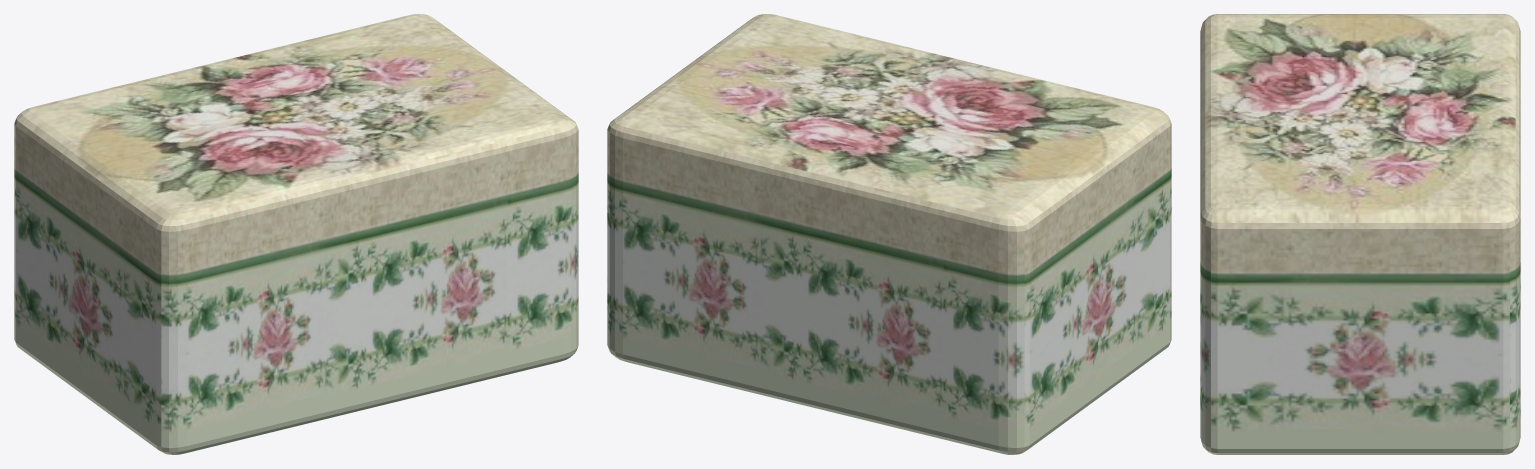
The picture shows the model from 3 angles, left to right: view 1: azimuth 30°, elevation 25°; view 2: azimuth 150°, elevation 25°; view 3: azimuth 270°, elevation 25°; orthographic projection.
Parts seen in each view (by area): view 1: Mesh1; view 2: Mesh1; view 3: Mesh1.
Boxes of the visible parts, <box> form: Mesh1: <box>14,14,578,454</box>; Mesh1: <box>607,14,1171,454</box>; Mesh1: <box>1200,14,1520,454</box>.
Bounding box in the file's own units: 130 × 71.73 × 84.47.
